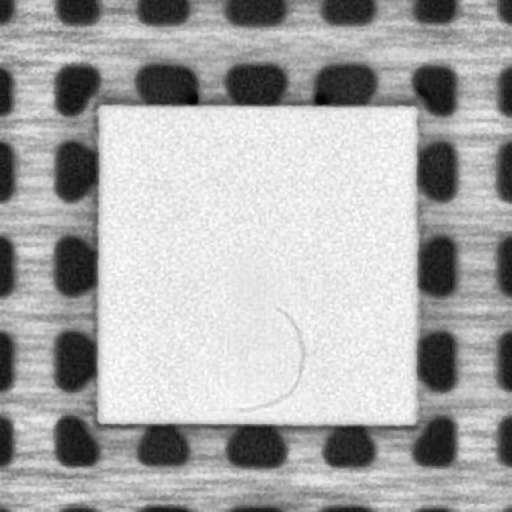DIE_CRACK: (236, 305, 303, 412)
